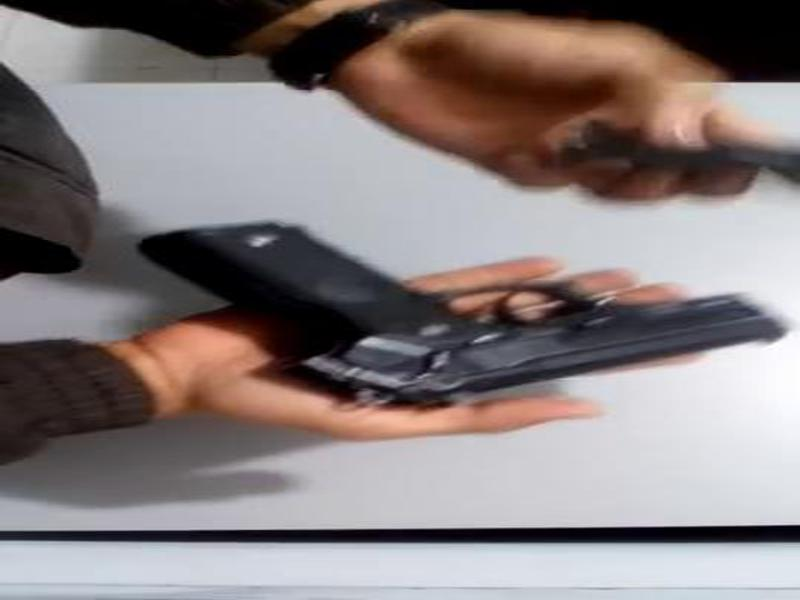Pistola: (132, 197, 790, 435)
